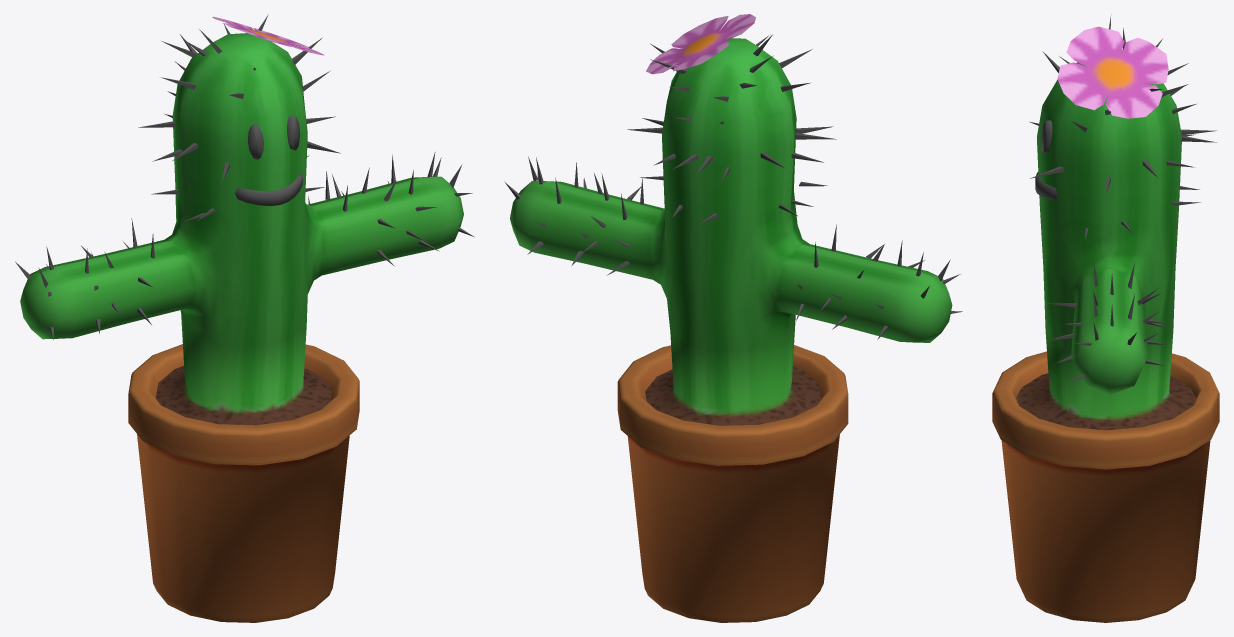
Rendered from Cactus Asset.fbx.
3 views of the same model, side by side, from view 1: azimuth 30°, elevation 25°; view 2: azimuth 150°, elevation 25°; view 3: azimuth 270°, elevation 25° (orthographic). The views are drawn at different scales.
Parts seen in each view (by area): view 1: lp, mouth; view 2: lp; view 3: lp, mouth.
Boxes of the visible parts, x1=… form: lp: x1=15, y1=14, x2=474, y2=622; mouth: x1=235, y1=115, x2=303, y2=205; lp: x1=504, y1=14, x2=962, y2=622; lp: x1=992, y1=14, x2=1219, y2=622; mouth: x1=1035, y1=120, x2=1057, y2=199.
Size of the model in its own units: 540 by 681 by 254.
